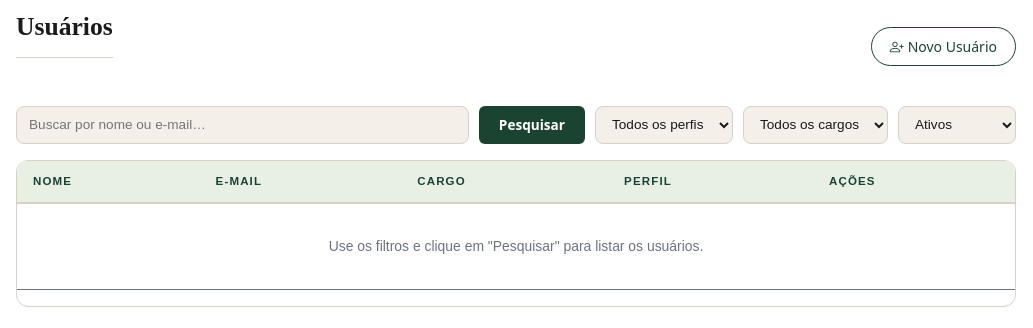
Test case: UserList — filtros (rascunho → aplica) › filtro de Perfil casa por igualdade
Step 1. Select "Todos" in the 3rd dropdown → {"x": 957, "y": 125}, box [898,106,1016,144]
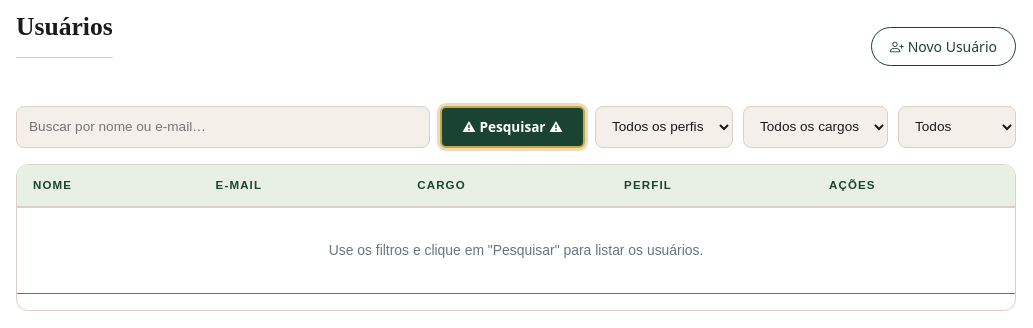
Step 2. Select "Administrador" in the 1st dropdown → {"x": 664, "y": 127}, box [595,106,733,148]
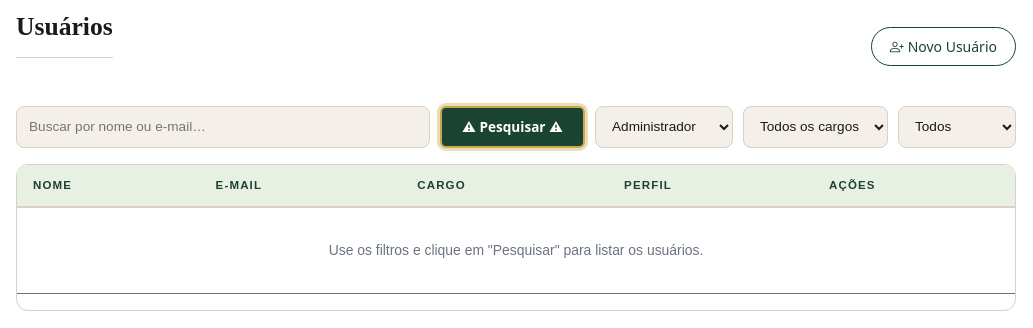
Step 3. Click the button with class "user-list-btn-filtrar" → {"x": 512, "y": 127}, box [440,106,585,148]
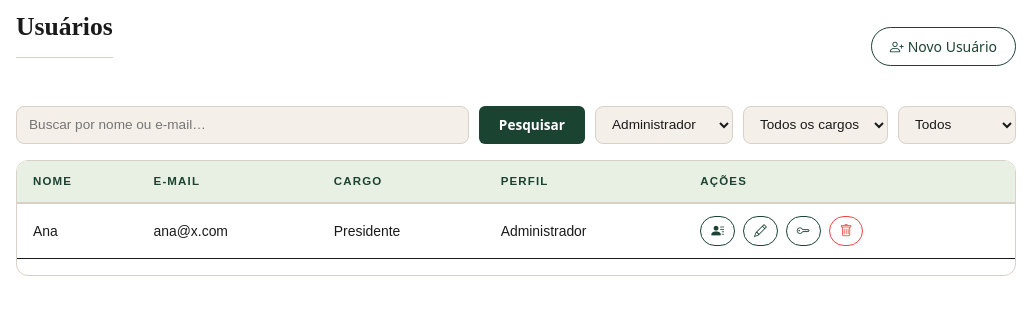
Result: the text "ana@x.com" is shown at [138,203,318,258]
